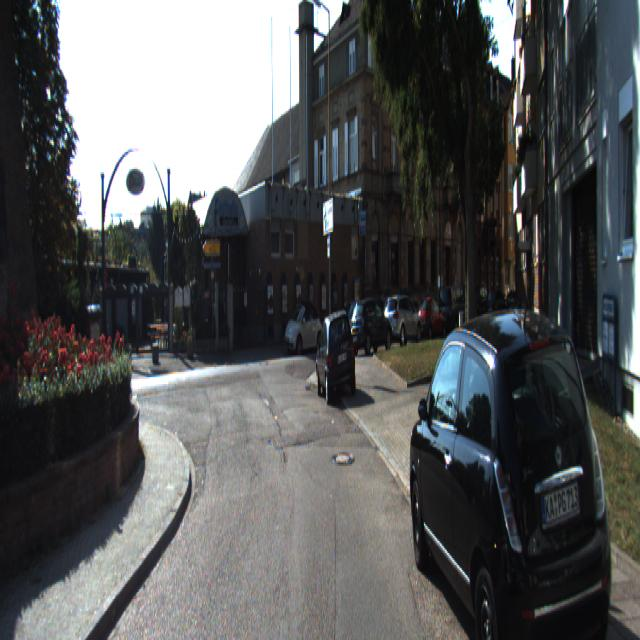Car: (407, 302, 626, 638), (315, 310, 356, 400), (350, 295, 392, 358), (283, 300, 323, 356), (383, 294, 421, 349), (438, 283, 470, 336), (418, 294, 446, 340)
